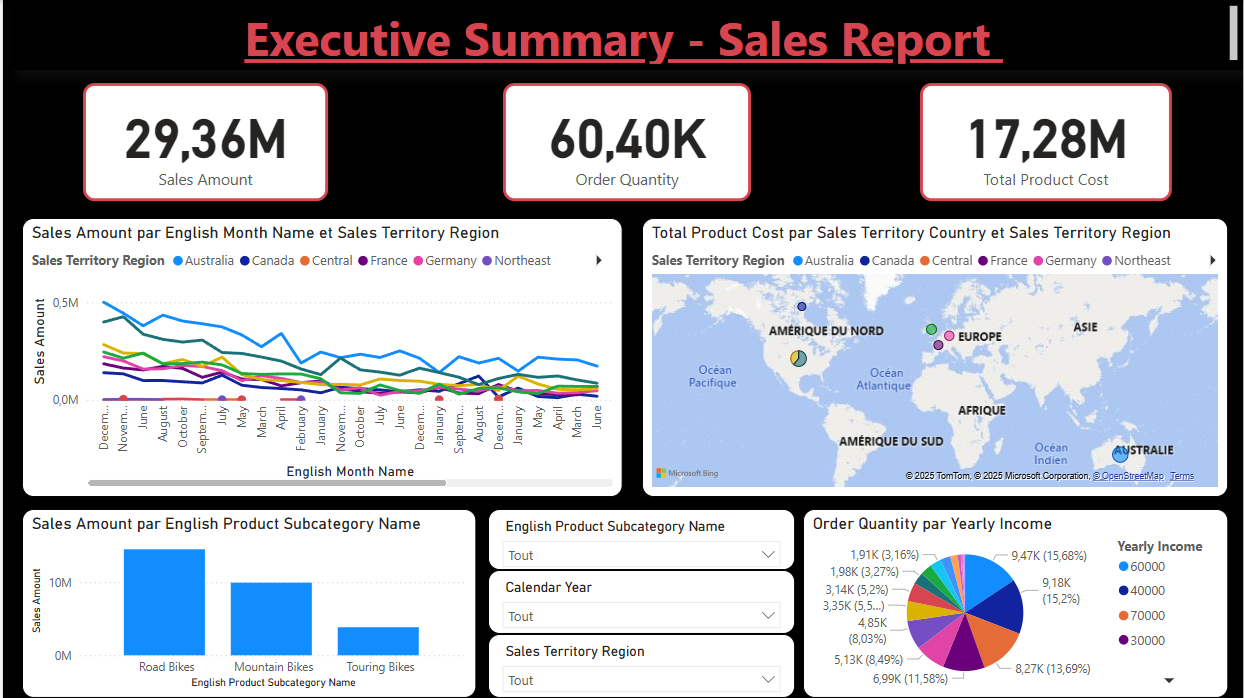

This screenshot's page, from the dashboard's own definition file:
{"tool":"powerbi","page":{"name":"Page 1","canvas":[1280,720],"ordinal":0},"visuals":[{"type":"textbox","box":[9.3,0,1270.7,72.3],"z":0},{"type":"card","fields":{"Values":["Fact Internet Sales.Sales Amount"]},"box":[82.6,85.7,252.9,121.8],"z":1},{"type":"card","fields":{"Values":["Fact Internet Sales.Order Quantity"]},"box":[516.1,85.7,256,121.8],"z":2},{"type":"card","fields":{"Values":["Fact Internet Sales.Total Product Cost"]},"box":[946.6,85.7,260.1,121.8],"z":3},{"type":"lineChart","fields":{"Y":["Fact Internet Sales.Sales Amount"],"Category":["Due Date.English Month Name"],"Series":["Dim Sales Territory.Sales Territory Region"]},"box":[19.6,225,620.4,288],"z":4},{"type":"map","fields":{"Size":["Fact Internet Sales.Total Product Cost"],"Category":["Dim Sales Territory.Sales Territory Country"],"Series":["Dim Sales Territory.Sales Territory Region"]},"box":[659.6,225,604.9,288],"z":5},{"type":"columnChart","fields":{"Y":["Fact Internet Sales.Sales Amount"],"Category":["Dim Product.English Product Subcategory Name"]},"box":[19.6,525.4,468.6,195.1],"z":6},{"type":"slicer","fields":{"Values":["Dim Product.English Product Subcategory Name"]},"box":[500.6,525.4,316.9,63],"z":7},{"type":"slicer","fields":{"Values":["Due Date.Calendar Year"]},"box":[500.6,588.4,316.9,66.1],"z":8},{"type":"slicer","fields":{"Values":["Dim Sales Territory.Sales Territory Region"]},"box":[500.6,654.5,316.9,66.1],"z":9},{"type":"pieChart","fields":{"Y":["Fact Internet Sales.Order Quantity"],"Category":["Dim Customer.Yearly Income"]},"box":[825.8,525.4,438.7,195.1],"z":10}]}

Visuals, with their boxes in screenshot pixels (x1, y1, x2, y2), scaled from the page's 1280x720 canvas onto the 1244x698 screenshot:
textbox: bbox=[9, 0, 1243, 70]
card - Fact Internet Sales.Sales Amount: bbox=[80, 83, 326, 201]
card - Fact Internet Sales.Order Quantity: bbox=[502, 83, 750, 201]
card - Fact Internet Sales.Total Product Cost: bbox=[920, 83, 1173, 201]
lineChart - Fact Internet Sales.Sales Amount x Due Date.English Month Name: bbox=[19, 218, 622, 497]
map - Fact Internet Sales.Total Product Cost x Dim Sales Territory.Sales Territory Country: bbox=[641, 218, 1229, 497]
columnChart - Fact Internet Sales.Sales Amount x Dim Product.English Product Subcategory Name: bbox=[19, 509, 474, 697]
slicer - Dim Product.English Product Subcategory Name: bbox=[487, 509, 795, 570]
slicer - Due Date.Calendar Year: bbox=[487, 570, 795, 635]
slicer - Dim Sales Territory.Sales Territory Region: bbox=[487, 635, 795, 697]
pieChart - Fact Internet Sales.Order Quantity x Dim Customer.Yearly Income: bbox=[803, 509, 1229, 697]
